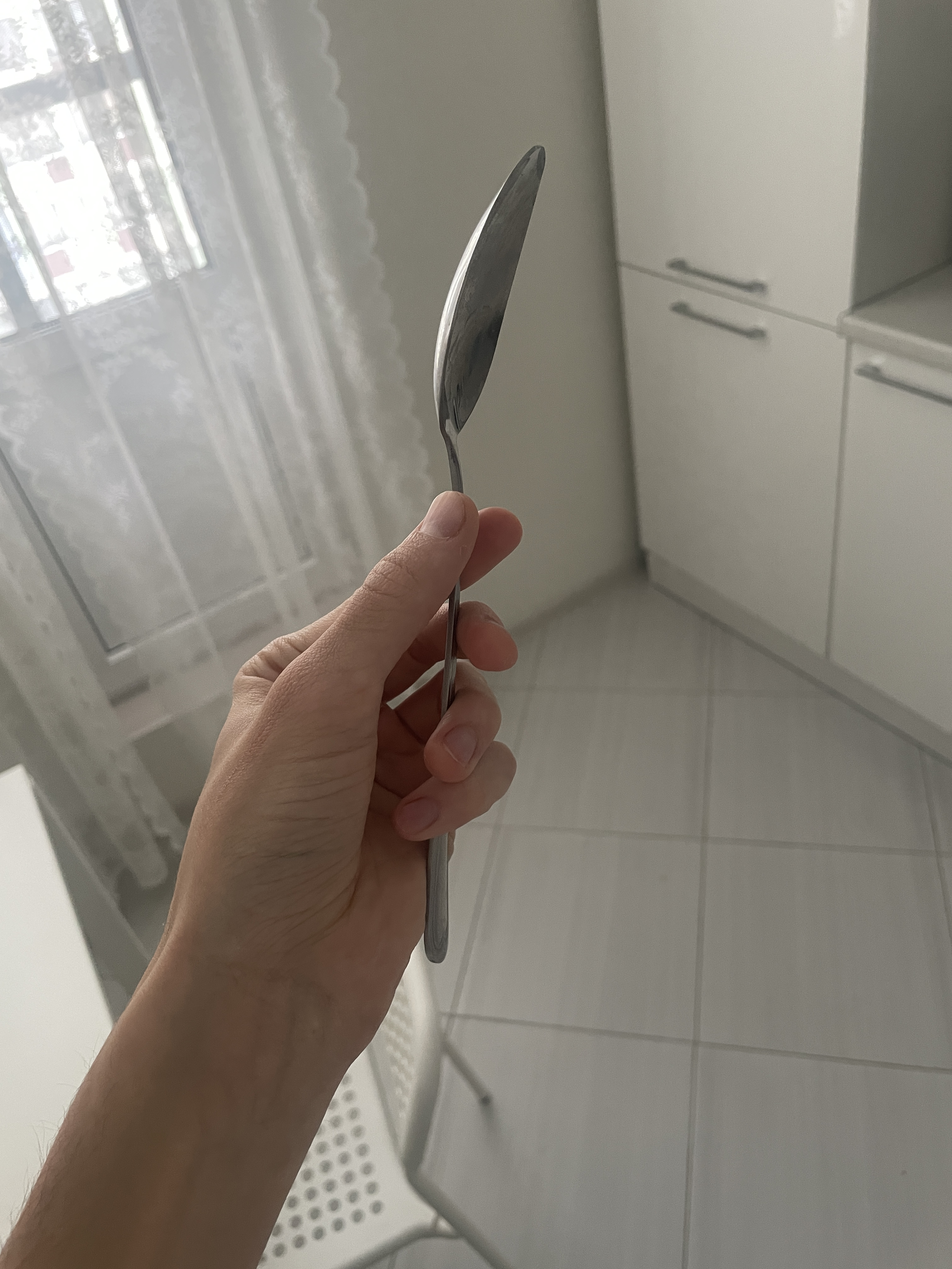spoon: (425, 145, 545, 968)
